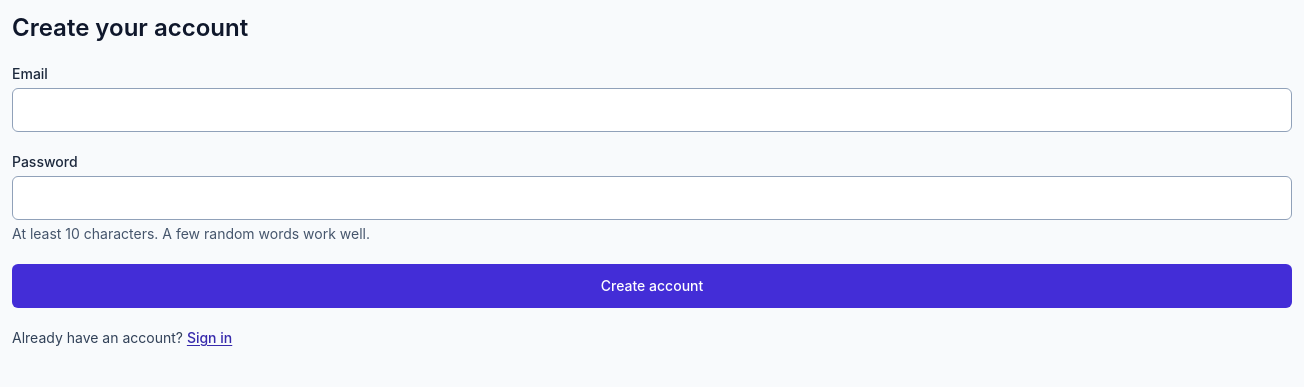
Test: checking the input before sending anything › moves focus to the password when only the password is wrong (registration length rule)
Step 1. Type "ada@example.com" into the field labelled "Email" → (652, 110), box left=12, top=88, right=1292, bottom=132
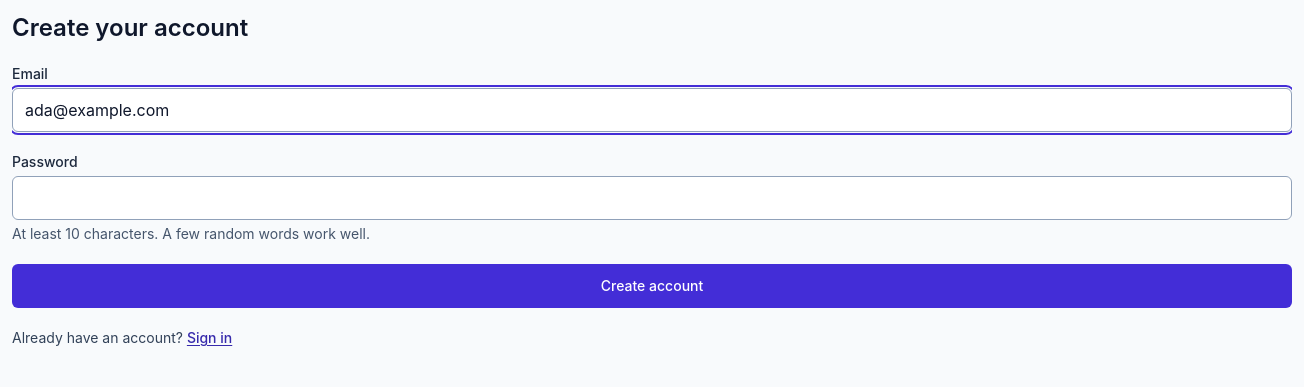
Step 2. Type "short" into the password field labelled "Password" → (652, 198), box left=12, top=176, right=1292, bottom=220
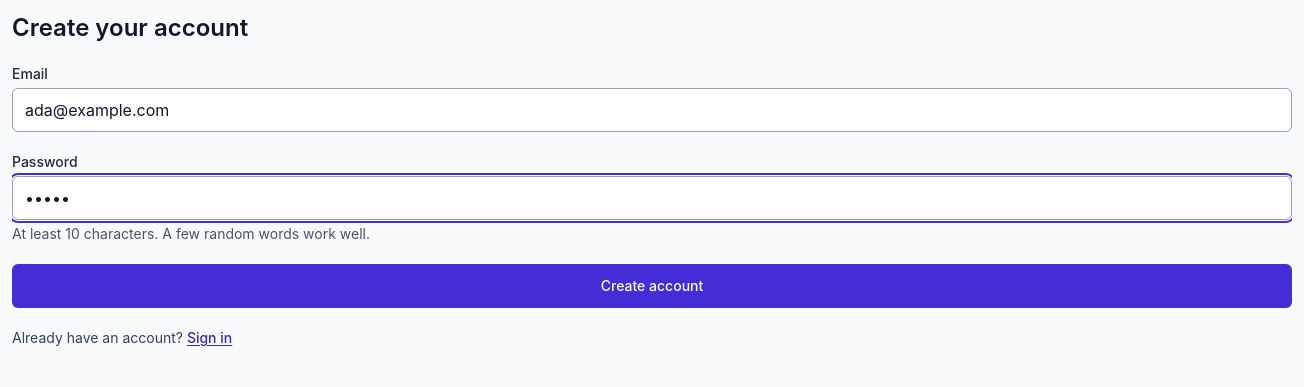
Step 3. Click the button "Create account" → (652, 286), box left=12, top=264, right=1292, bottom=308
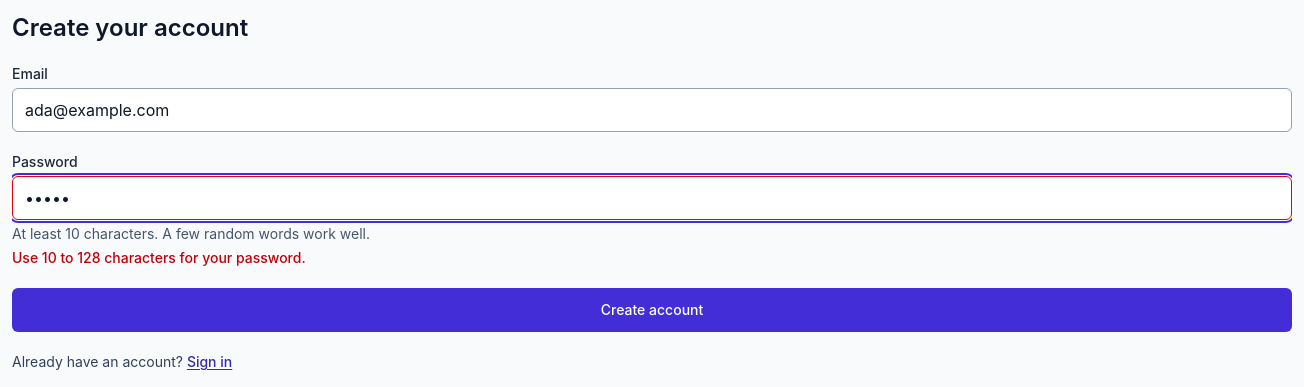
Expected: the text "Use 10 to 128 characters for your password." is shown, left=12, top=249, right=306, bottom=266
